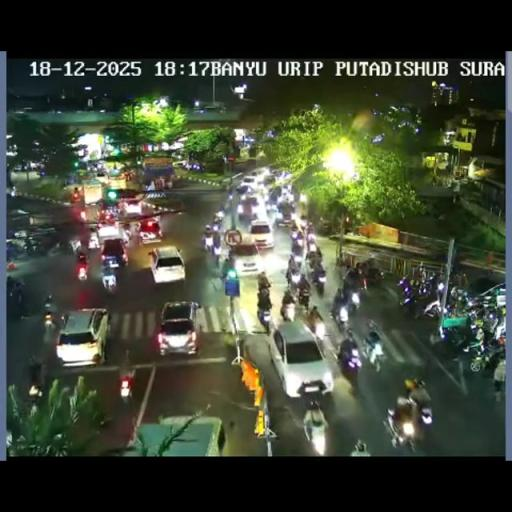Car: (266, 319, 332, 396), (55, 307, 110, 366), (156, 300, 200, 355), (148, 246, 185, 284), (227, 238, 261, 276), (100, 238, 128, 270), (248, 220, 274, 250), (118, 198, 151, 218), (138, 218, 162, 244), (238, 196, 258, 222), (277, 202, 294, 226), (240, 174, 261, 191)
Motorcycle: (258, 246, 326, 336), (296, 382, 332, 448), (384, 398, 421, 450), (463, 329, 504, 372), (429, 318, 470, 361), (401, 282, 440, 320), (332, 281, 362, 322), (464, 297, 502, 327), (362, 328, 384, 370), (338, 337, 362, 373), (442, 290, 470, 320), (6, 277, 26, 316), (306, 307, 326, 339), (27, 367, 45, 401), (492, 358, 506, 399), (100, 262, 118, 292), (256, 301, 272, 333), (42, 310, 58, 341), (5, 238, 27, 260), (310, 263, 326, 293), (118, 370, 133, 402), (46, 238, 68, 258), (277, 184, 294, 206), (100, 204, 120, 222), (350, 439, 371, 456), (297, 283, 310, 310), (280, 300, 295, 322), (410, 264, 425, 286), (290, 234, 304, 257), (419, 402, 433, 425), (288, 268, 302, 290), (306, 246, 320, 268), (451, 270, 468, 288), (221, 256, 232, 282), (257, 285, 271, 305), (87, 230, 101, 250), (405, 378, 424, 392), (266, 200, 278, 220), (318, 218, 332, 235), (69, 238, 82, 255), (203, 234, 214, 254), (77, 262, 88, 282), (210, 217, 222, 234), (44, 294, 54, 314), (25, 238, 36, 255), (212, 242, 222, 260), (358, 273, 368, 291), (122, 222, 132, 240), (306, 230, 317, 246), (298, 218, 308, 232), (227, 191, 233, 202)
